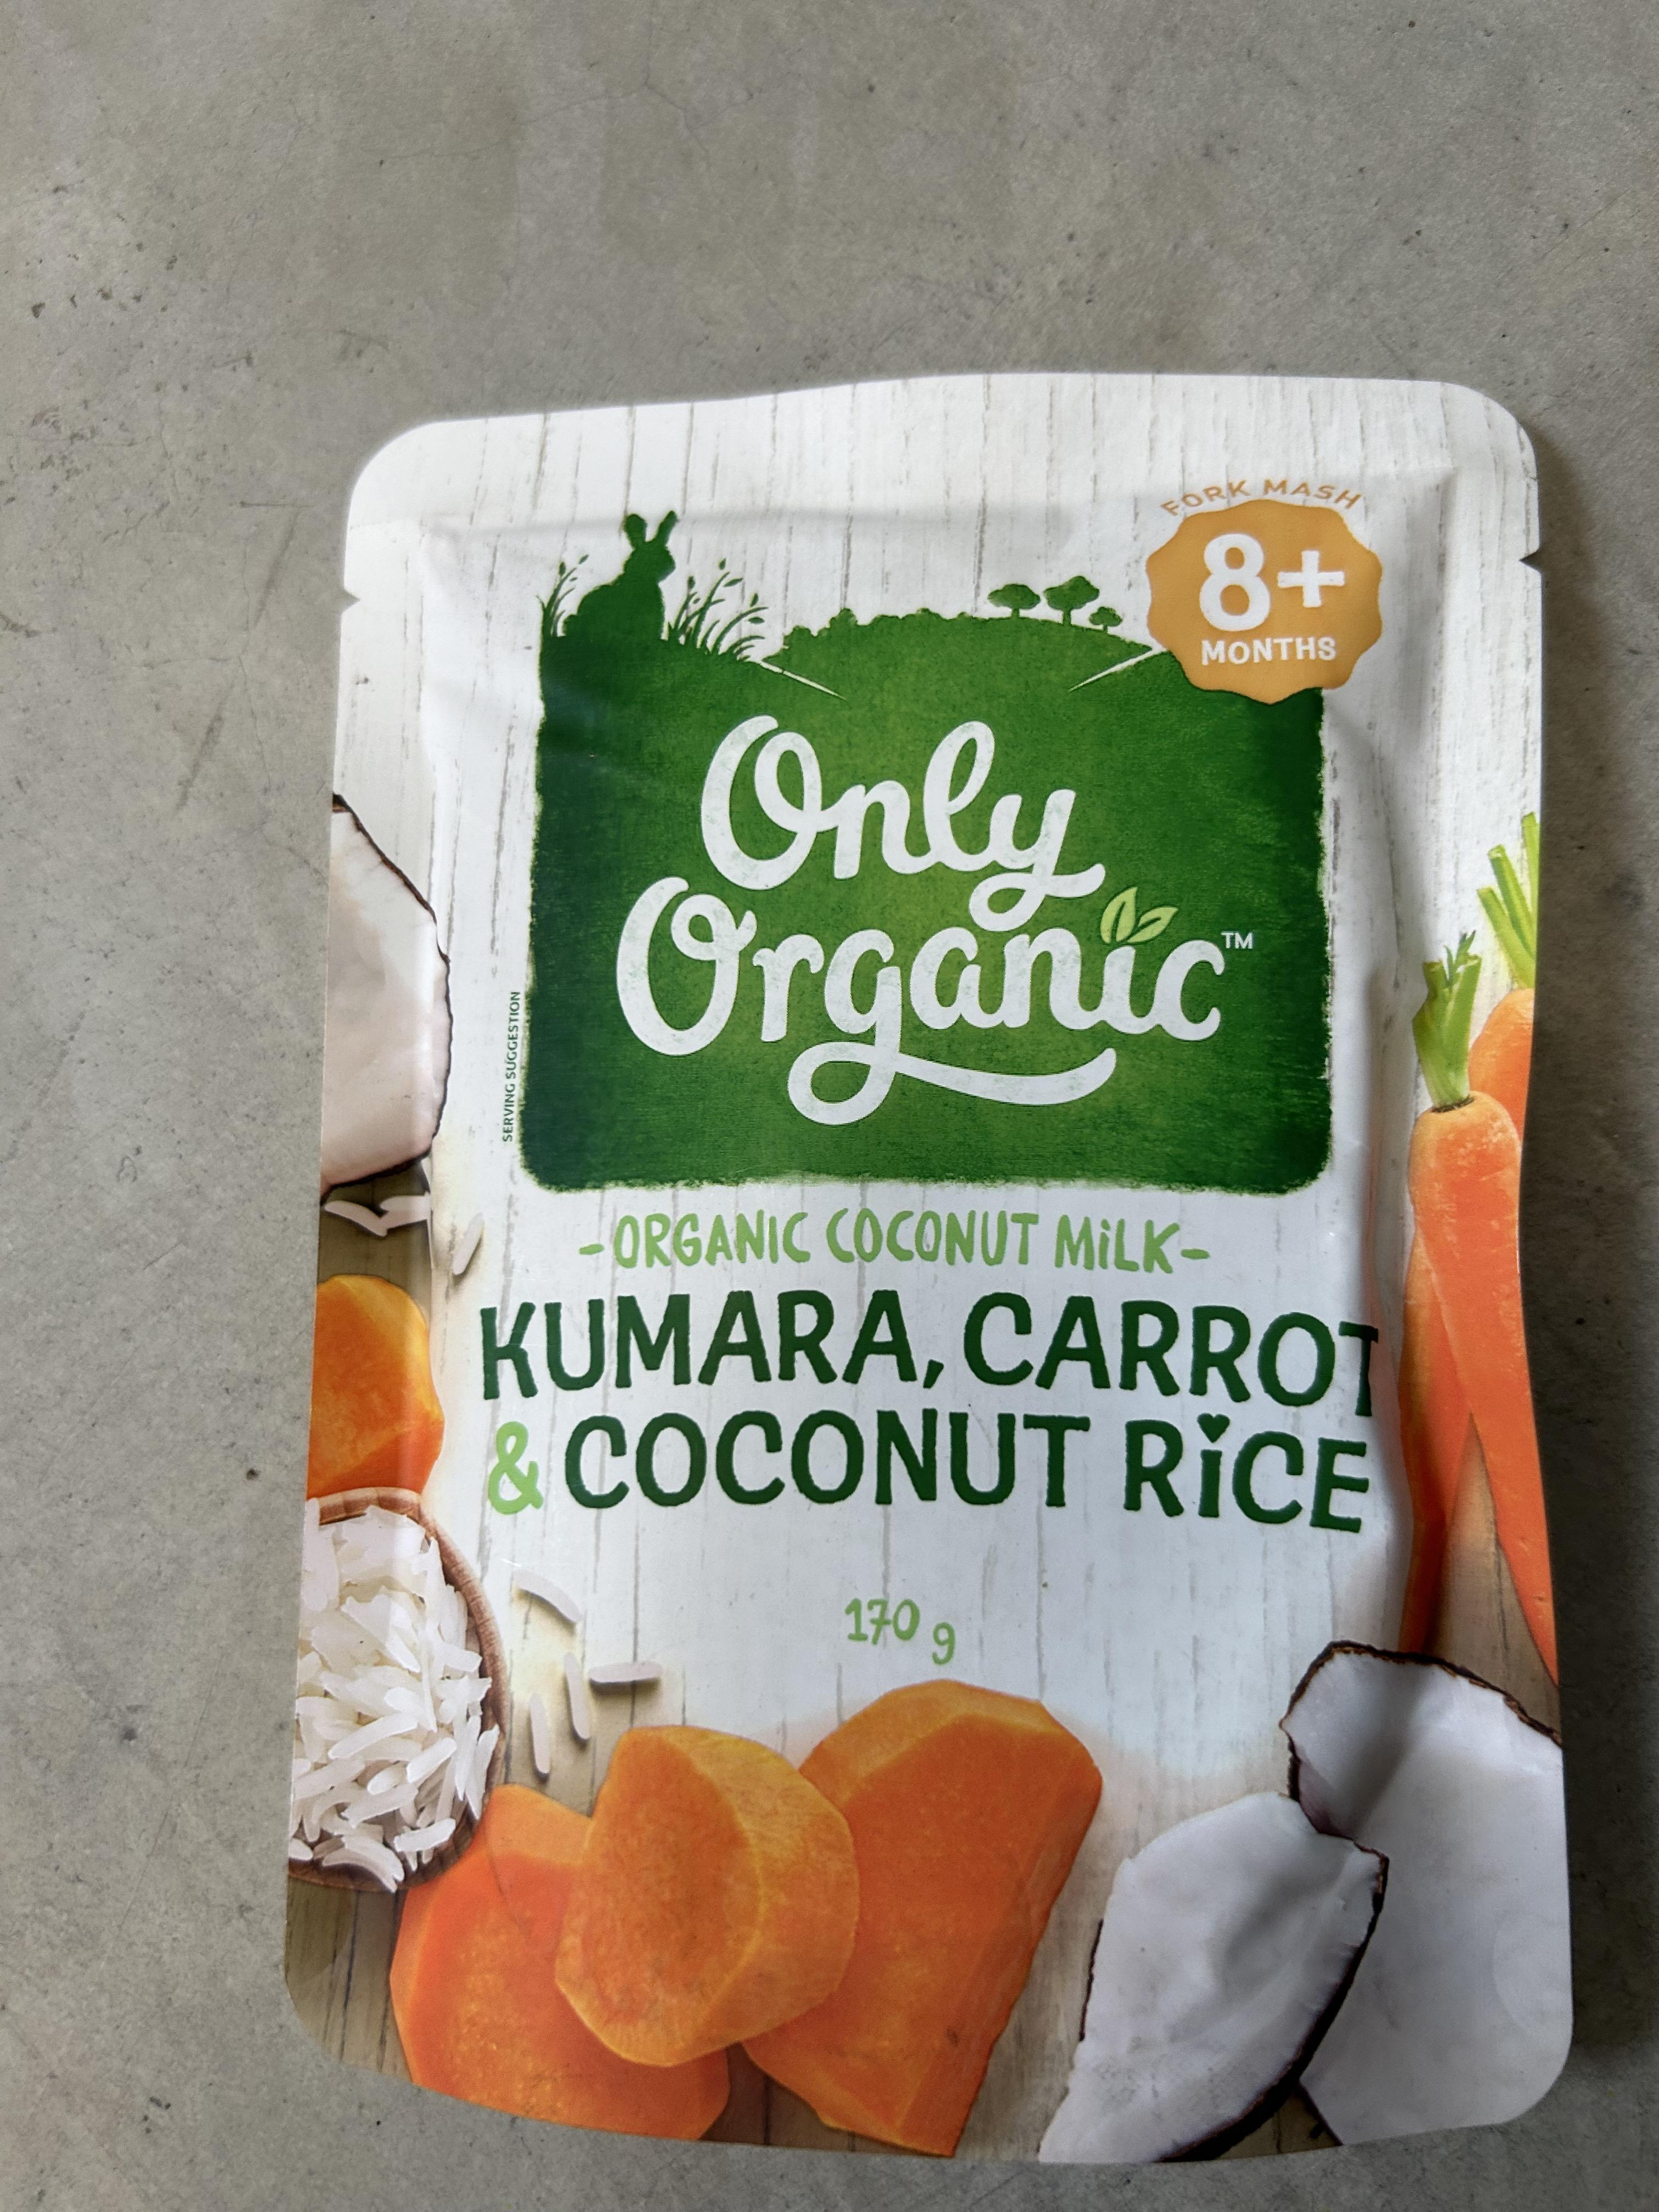object_name: (373, 455, 1534, 2087)
